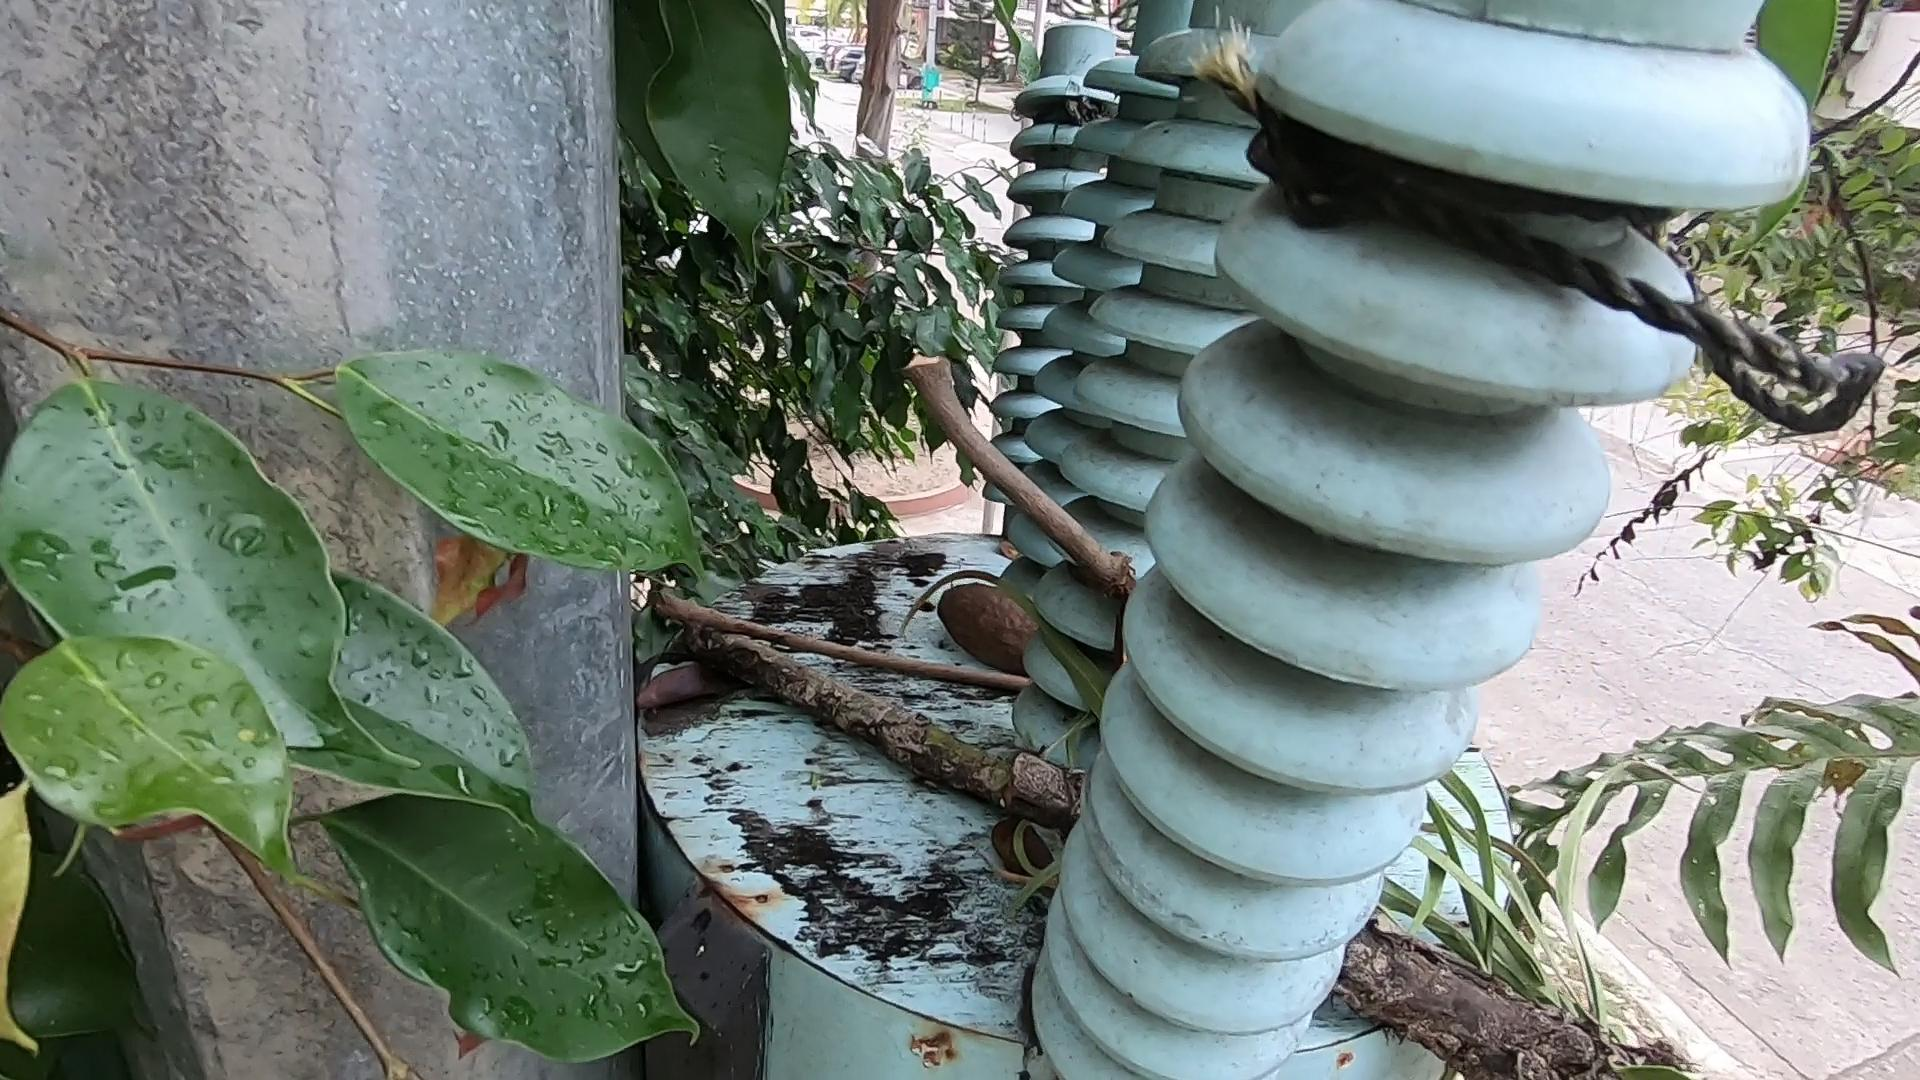branch with leaves: (680, 634, 1618, 1080)
leaf: (637, 593, 738, 767), (996, 803, 1054, 884)
mahogany fruit: (922, 556, 1089, 724)
tree branch: (924, 353, 1126, 582), (662, 589, 1054, 690)
